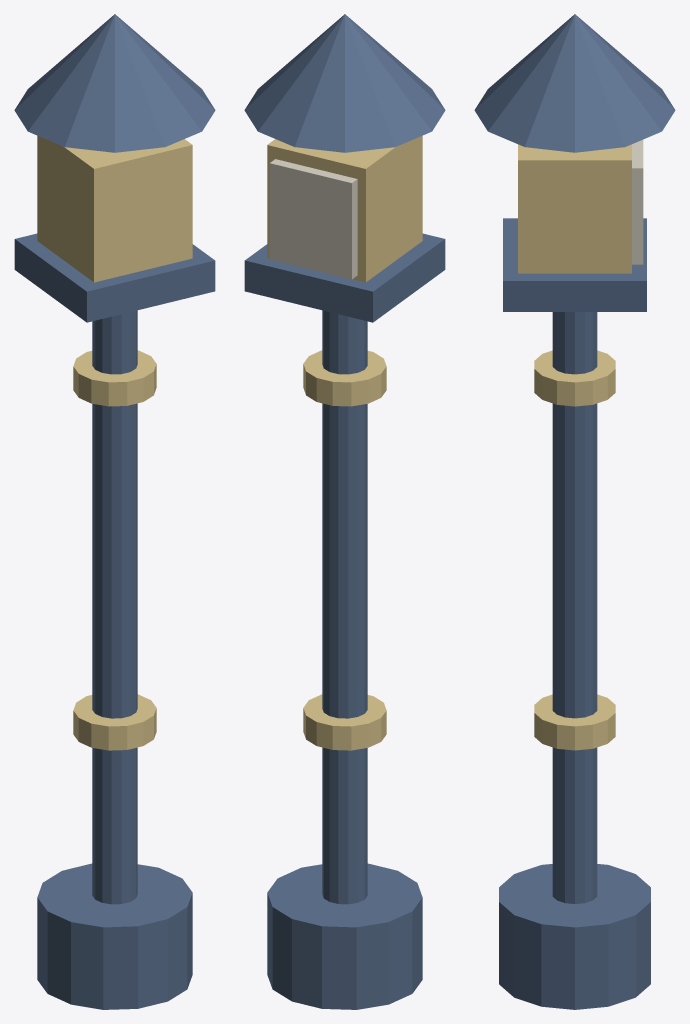
The model's file is lantern_post.glb.
The picture shows the model from 3 angles, left to right: view 1: azimuth 30°, elevation 25°; view 2: azimuth 150°, elevation 25°; view 3: azimuth 270°, elevation 25°; orthographic projection.
Visible parts, largest first — view 1: lantern_post; view 2: lantern_post; view 3: lantern_post.
Boxes of the visible parts, x1,y1,x2,y2 form: lantern_post: (14,14,215,1009); lantern_post: (244,14,445,1009); lantern_post: (474,14,675,1009).
Size of the model in its own units: 1.06 by 5.6 by 1.06.
